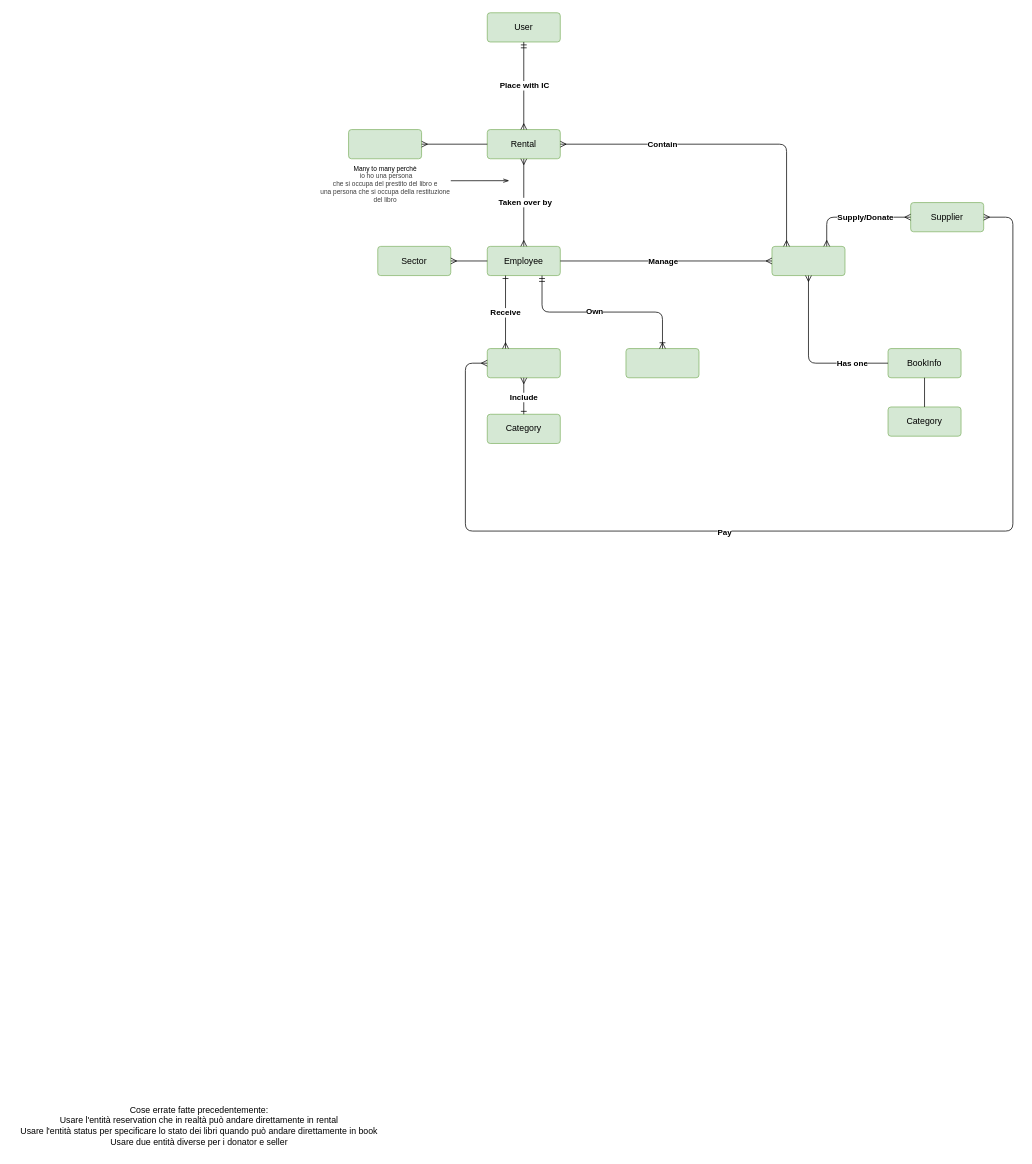
This 1032x1164 diagram has some shape labels left out. The shapes that lost their labels are listed below. From the top down, each one's centre as x and y in pixels, then its label:
the point at 385,144: RentalDetail
the point at 808,261: Book
the point at 523,363: Payment
the point at 662,363: EmployeeCard
